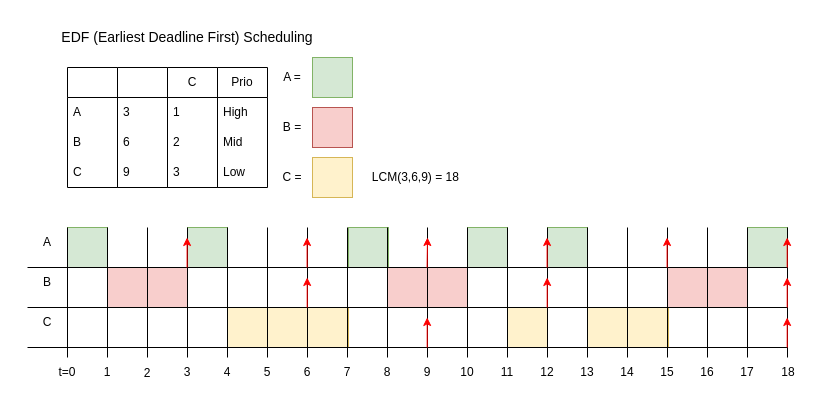
The diagram is 815 pixels wide and 405 high, and some of its shapes have lost their labels. The shapes that lost their labels are listed below. From the top down, each one's box as (x1, y1, x2, y2) in pixels, then its label:
(66, 66, 118, 188): Task
(116, 66, 168, 188): D=T
